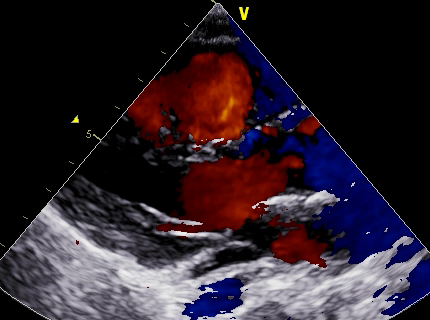AR: (177, 145, 301, 230)
